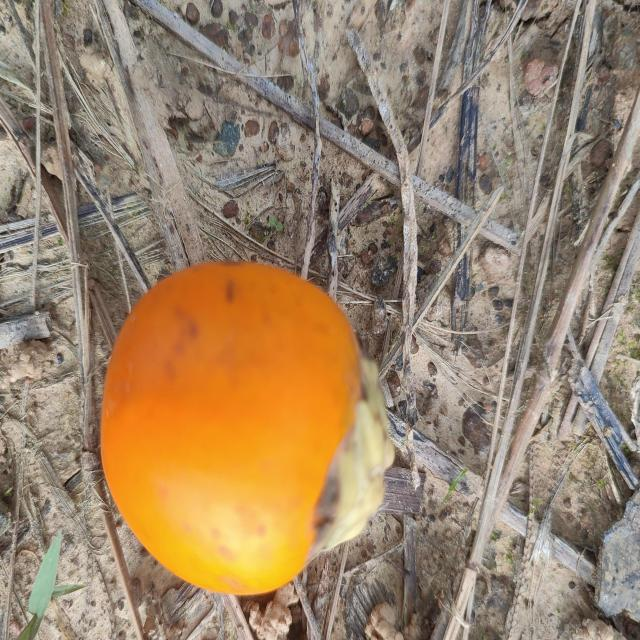good: (98, 261, 396, 598)
